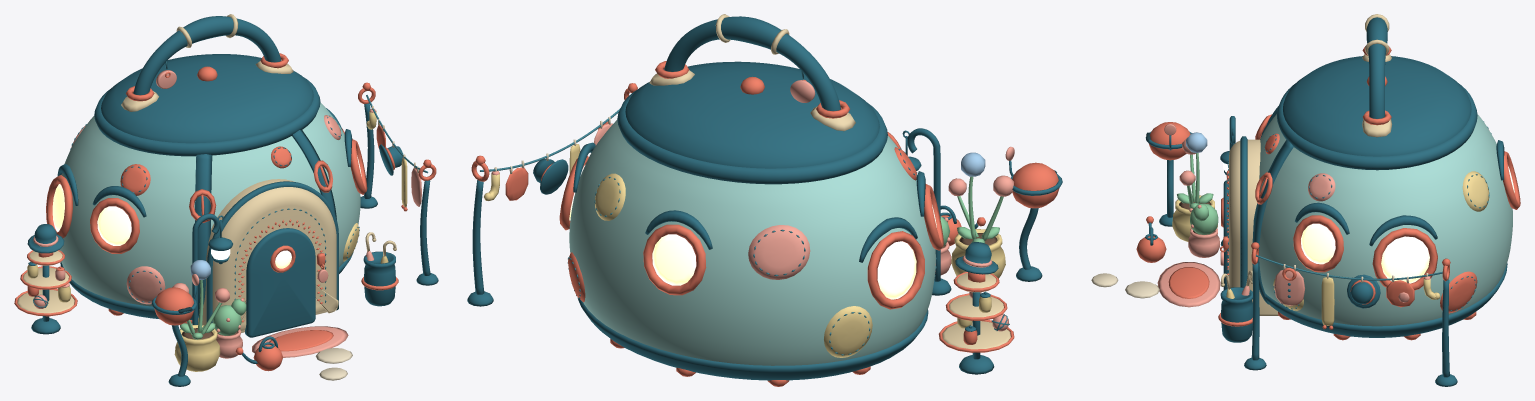
The model's file is house_08_0808.fbx.
3 views of the same model, side by side, from view 1: azimuth 30°, elevation 25°; view 2: azimuth 150°, elevation 25°; view 3: azimuth 270°, elevation 25° (orthographic). The views are drawn at different scales.
Visible parts, largest first — view 1: House_Body_Bag, House_Lid, Entrance_Pocket, Entrance_Door, House_RimPiping, Roof_Handle, Window_Grommets, Prop_RoundShelf, Wall_Straps, Entrance_Mat, Prop_Clothesline_Posts, Window_Glass (+25 smaller); view 2: House_Body_Bag, House_Lid, Window_Grommets, House_RimPiping, House_BaseTrim, Roof_Handle, Prop_RoundShelf, Window_Glass, Wall_Patches_Mint, Wall_Patches_Pink, Window_Eyelids, Prop_Laundry (+11 smaller); view 3: House_Body_Bag, House_Lid, Prop_Laundry, House_RimPiping, Entrance_Pocket, Window_Grommets, Window_Glass, House_BaseTrim, Entrance_Mat, Prop_Clothesline_Posts, Roof_Handle, Prop_UmbrellaStand (+19 smaller).
Boxes of the visible parts, x1,y1,x2,y2 form: House_Body_Bag: (59, 102, 360, 306); House_Lid: (101, 54, 313, 143); Entrance_Pocket: (191, 179, 338, 332); Entrance_Door: (245, 228, 315, 337); House_RimPiping: (94, 77, 320, 156); Roof_Handle: (133, 16, 281, 95); Window_Grommets: (46, 128, 367, 253); Prop_RoundShelf: (14, 250, 77, 334); Wall_Straps: (195, 130, 336, 317); Entrance_Mat: (252, 326, 348, 357); Prop_Clothesline_Posts: (360, 103, 438, 285); Window_Glass: (52, 155, 361, 245); House_Body_Bag: (569, 120, 935, 365); House_Lid: (625, 61, 879, 168); Window_Grommets: (559, 156, 943, 309); House_RimPiping: (617, 90, 887, 184); House_BaseTrim: (577, 297, 928, 380); Roof_Handle: (664, 16, 840, 110); Prop_RoundShelf: (938, 272, 1014, 374); Window_Glass: (569, 165, 936, 299); Wall_Patches_Mint: (595, 173, 872, 357); Wall_Patches_Pink: (748, 225, 935, 279); Window_Eyelids: (573, 142, 925, 262); Prop_Laundry: (484, 122, 612, 200); House_Body_Bag: (1259, 114, 1512, 326); House_Lid: (1283, 56, 1471, 156); Prop_Laundry: (1274, 267, 1440, 329); House_RimPiping: (1277, 84, 1477, 170); Entrance_Pocket: (1229, 139, 1278, 315); Window_Grommets: (1293, 151, 1520, 290); Window_Glass: (1301, 166, 1514, 283); House_BaseTrim: (1265, 263, 1507, 337); Entrance_Mat: (1157, 262, 1220, 307); Prop_Clothesline_Posts: (1244, 263, 1457, 386); Roof_Handle: (1366, 17, 1387, 118); Prop_UmbrellaStand: (1218, 287, 1252, 342).
Bounding box in the file's own units: 6.32 × 3.85 × 5.71.
